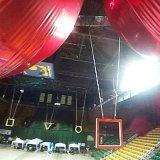Orange_Square_GShape: (95, 118, 122, 148)
Yellow_Circle_GShape: (75, 125, 82, 134)
Yellow_Square_GShape: (5, 118, 15, 127)
Yellow_Triangle_Gshape: (44, 122, 52, 130)
